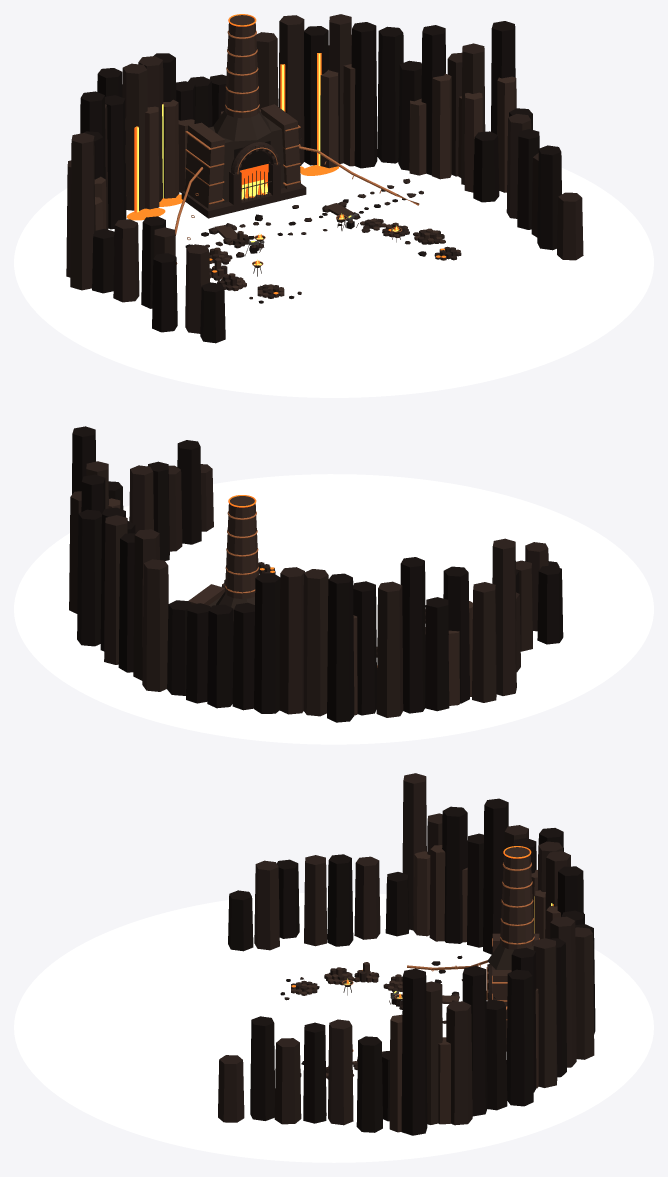
3 renders of one model, top to bottom at view 1: azimuth 30°, elevation 25°; view 2: azimuth 150°, elevation 25°; view 3: azimuth 270°, elevation 25°, orthographic.
Visible parts, largest first — view 1: sol, decor; view 2: decor, sol; view 3: decor, sol.
Part boxes in pixels (bbox=[...]): sol: bbox=[14, 128, 653, 397]; decor: bbox=[66, 14, 583, 343]; decor: bbox=[69, 426, 563, 722]; sol: bbox=[14, 474, 653, 744]; decor: bbox=[218, 773, 595, 1135]; sol: bbox=[14, 892, 653, 1162].
Size of the model in its own units: 96 by 29.71 by 96.
